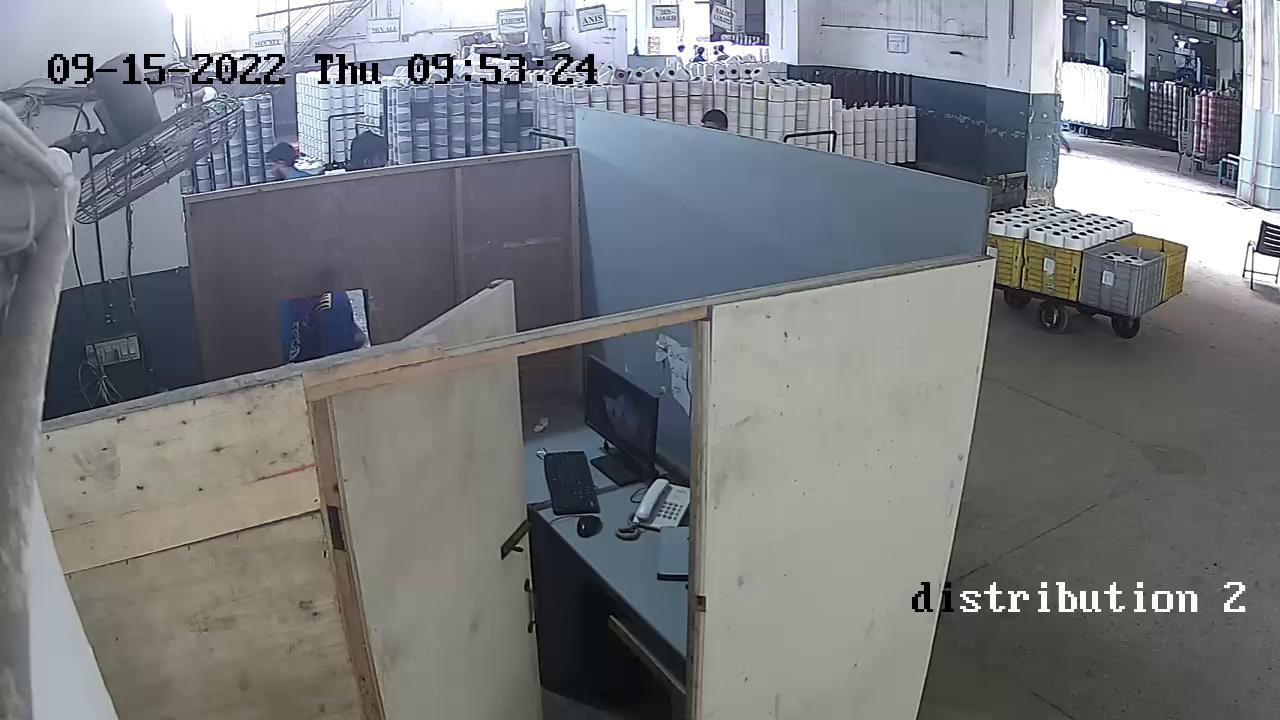person: (348, 127, 396, 173), (263, 137, 307, 182), (699, 106, 730, 132)
